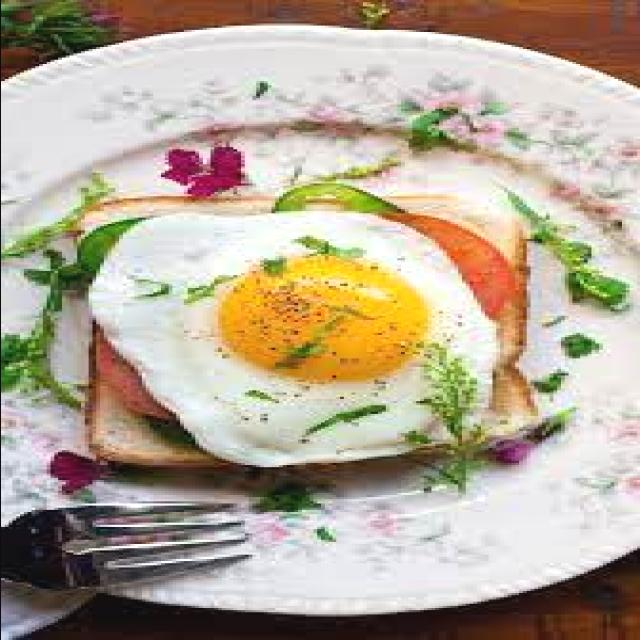telur ceplok: (88, 183, 499, 465)
